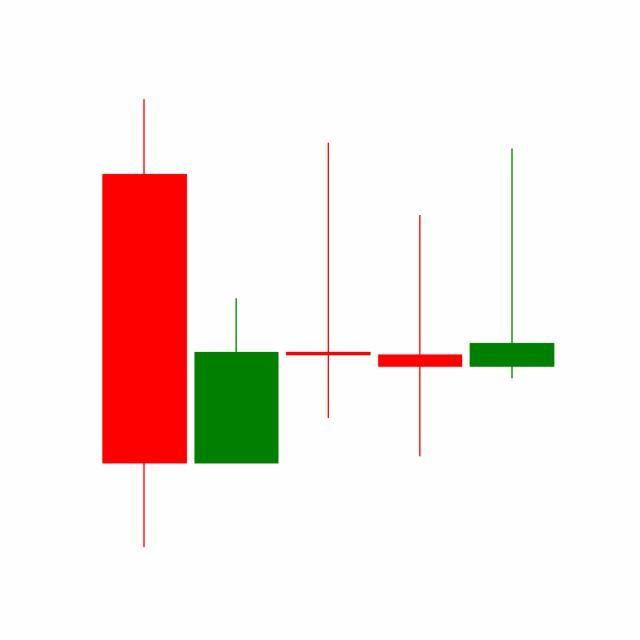Spinning Top: (374, 214, 468, 461)
